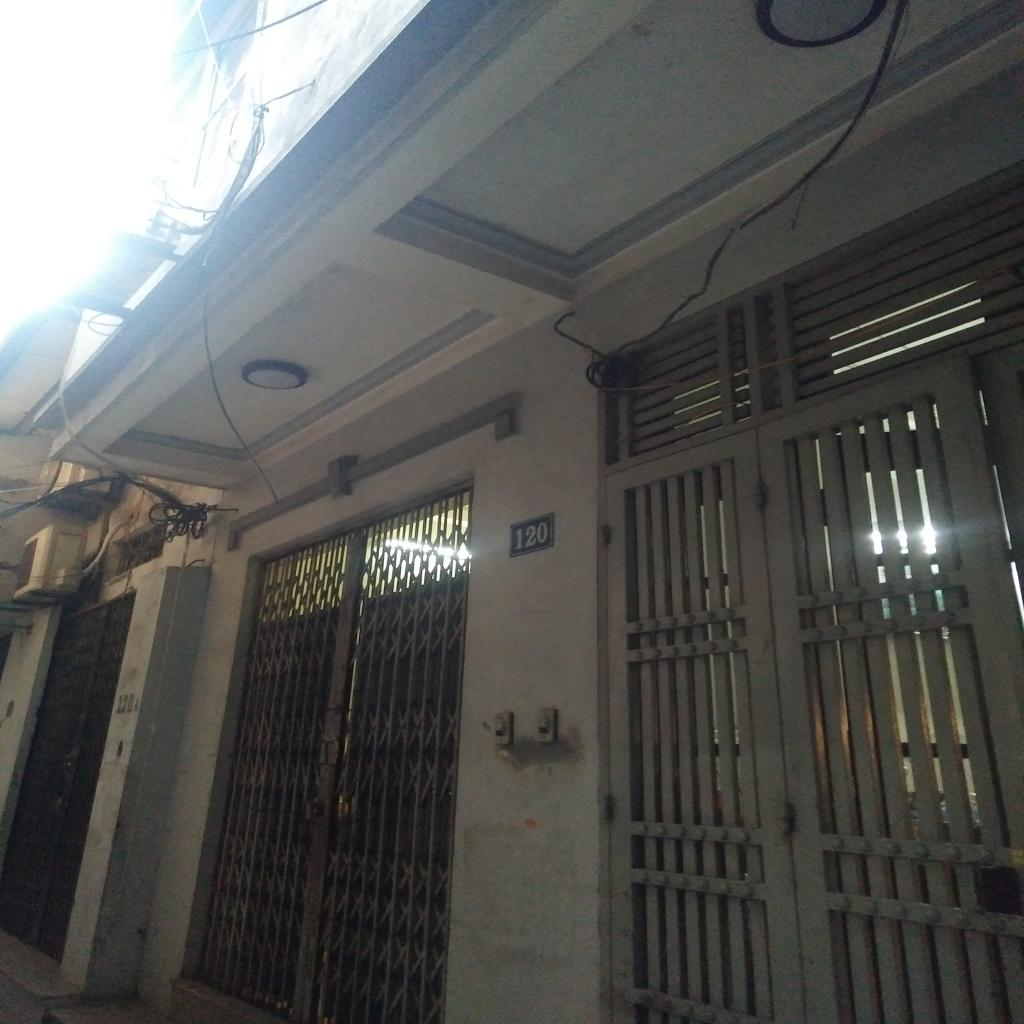text: (112, 692, 142, 716)
